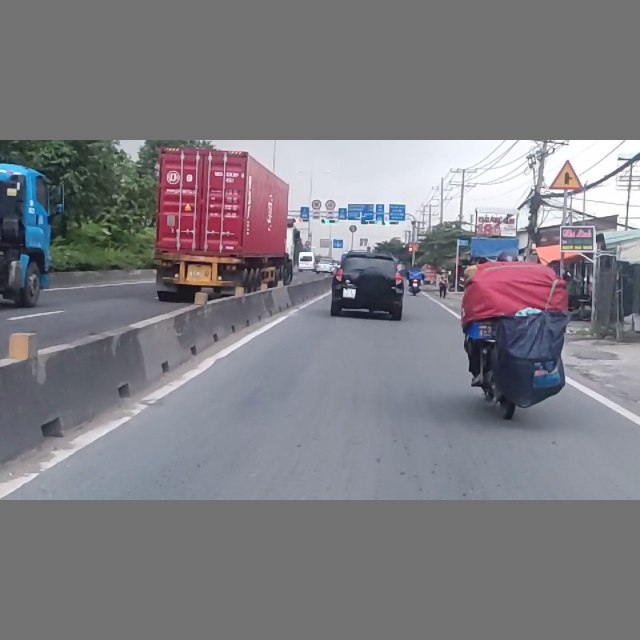P.127*60: (325, 199, 337, 211)
P.127*80: (312, 199, 321, 209)
W.207: (549, 159, 584, 192)
